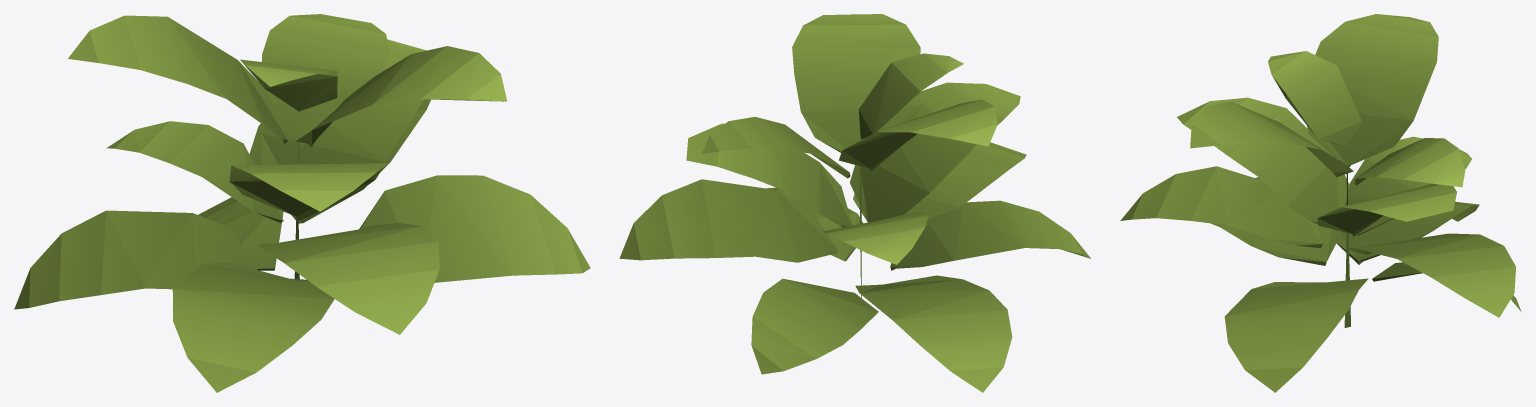
Rendered from plant_02.glb.
3 renders of one model, left to right at view 1: azimuth 30°, elevation 25°; view 2: azimuth 150°, elevation 25°; view 3: azimuth 270°, elevation 25°, orthographic. The views are drawn at different scales.
Parts seen in each view (by area): view 1: Spring_Plant_02_LOD1; view 2: Spring_Plant_02_LOD1; view 3: Spring_Plant_02_LOD1.
Boxes of the visible parts, left/top/right/bottom form: Spring_Plant_02_LOD1: left=14, top=14, right=590, bottom=392; Spring_Plant_02_LOD1: left=619, top=14, right=1090, bottom=392; Spring_Plant_02_LOD1: left=1120, top=14, right=1521, bottom=392.
Bounding box in the file's own units: 0.8784 × 0.5518 × 0.8161.
1 material, 1 textured.
